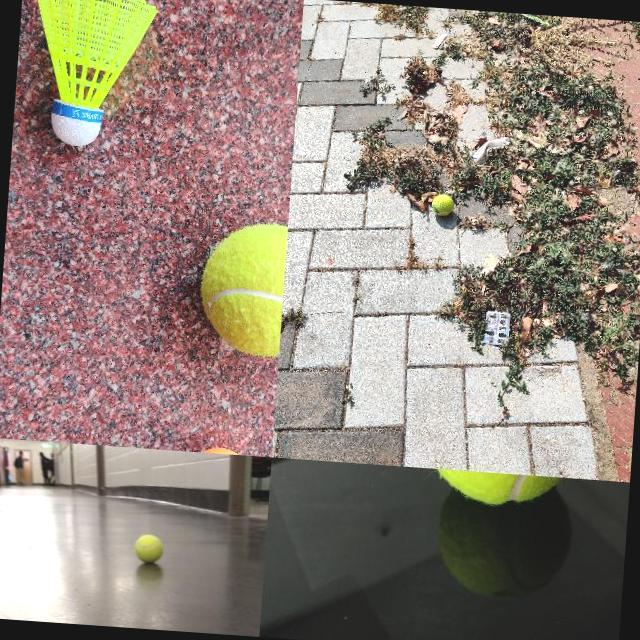tennis-ball: (195, 219, 286, 357), (416, 468, 582, 512), (132, 532, 164, 564), (432, 194, 454, 216)
